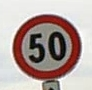limite 50: (11, 13, 81, 79)
